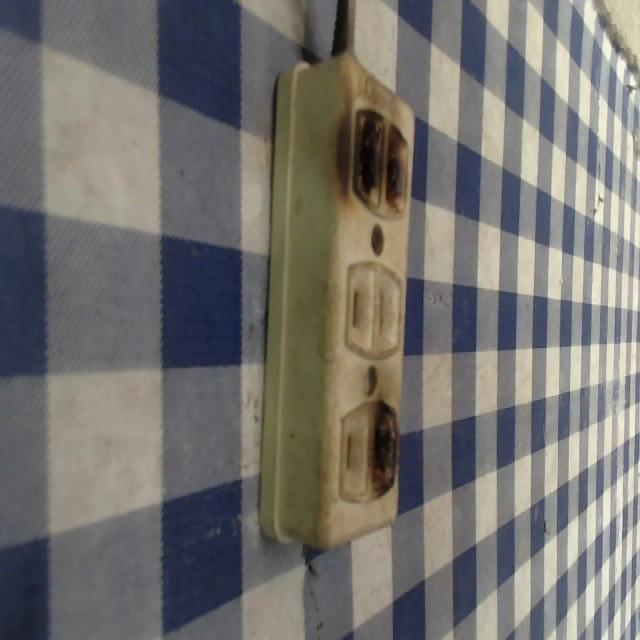-: (328, 94, 412, 222), (362, 391, 400, 500)
